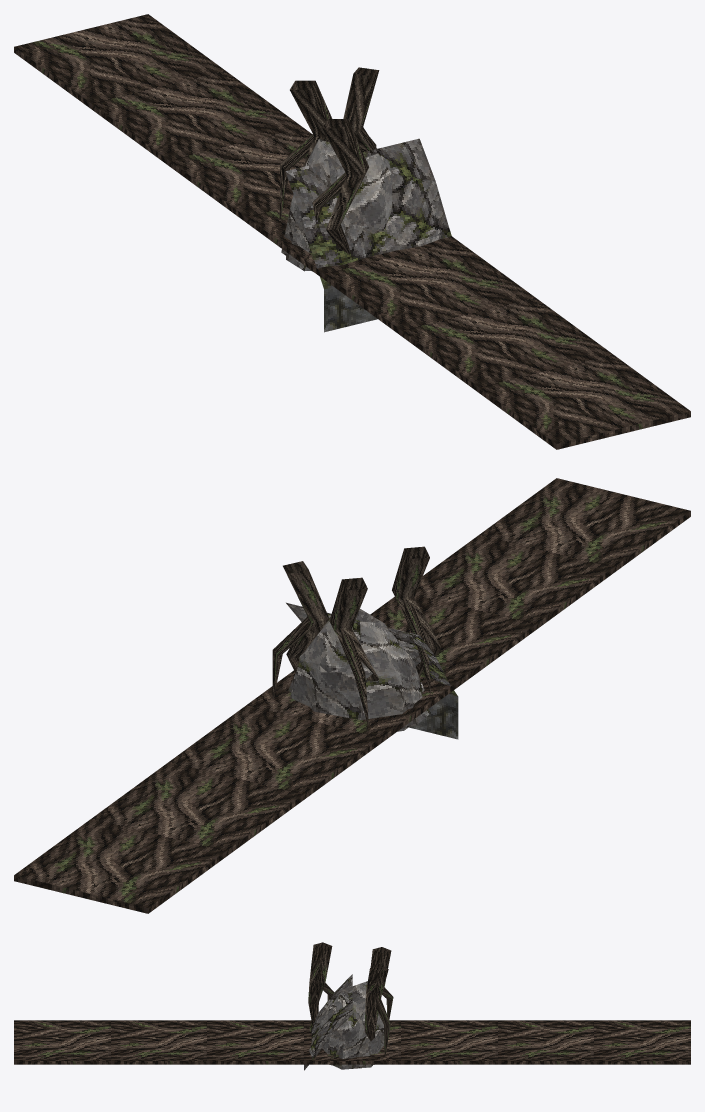
The model's file is heart_v1_kit.glb.
The picture shows the model from 3 angles, top to bottom: view 1: azimuth 30°, elevation 25°; view 2: azimuth 150°, elevation 25°; view 3: azimuth 270°, elevation 25°; orthographic projection. The views are drawn at different scales.
Visible parts, largest first — view 1: heart_bridge, heart_wall, heart_root, heart_cap, heart_bank, heart_rock_b; view 2: heart_bridge, heart_root, heart_rock_b, heart_cap, heart_wall, heart_bank; view 3: heart_bridge, heart_root, heart_cap, heart_wall, heart_rock_c.
Boxes of the visible parts, bbox=[...] form: heart_bridge: bbox=[14, 14, 690, 449]; heart_wall: bbox=[285, 138, 451, 289]; heart_root: bbox=[279, 67, 379, 257]; heart_cap: bbox=[292, 139, 392, 271]; heart_bank: bbox=[324, 287, 377, 332]; heart_rock_b: bbox=[281, 139, 392, 255]; heart_bridge: bbox=[14, 478, 690, 913]; heart_root: bbox=[272, 546, 441, 724]; heart_rock_b: bbox=[310, 621, 422, 731]; heart_cap: bbox=[290, 609, 424, 707]; heart_wall: bbox=[286, 602, 457, 696]; heart_bank: bbox=[409, 694, 458, 739]; heart_bridge: bbox=[14, 1020, 690, 1064]; heart_root: bbox=[308, 942, 393, 1056]; heart_cap: bbox=[318, 981, 383, 1068]; heart_wall: bbox=[304, 974, 352, 1070]; heart_rock_c: bbox=[333, 1041, 372, 1069].
Bounding box in the file's own units: 72 × 98.75 × 504.
5 materials, 5 textured.
